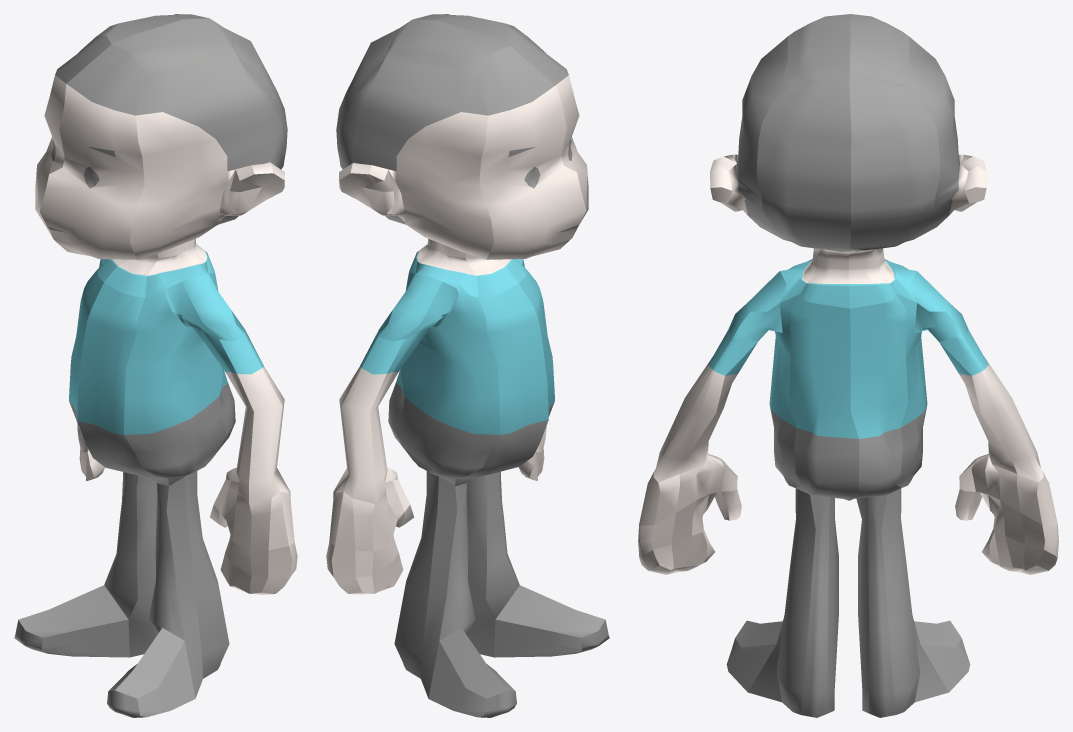
File: NPCtest.fbx
3 views of the same model, side by side, from view 1: azimuth 30°, elevation 25°; view 2: azimuth 150°, elevation 25°; view 3: azimuth 270°, elevation 25° (orthographic). The views are drawn at different scales.
Parts seen in each view (by area): view 1: pCube8; view 2: pCube8; view 3: pCube8.
Part boxes in pixels (x1=…): pCube8: x1=14, y1=14, x2=297, y2=717; pCube8: x1=326, y1=14, x2=609, y2=717; pCube8: x1=638, y1=14, x2=1058, y2=717.
Bounding box in the file's own units: 3.59 × 9.56 × 5.39.
